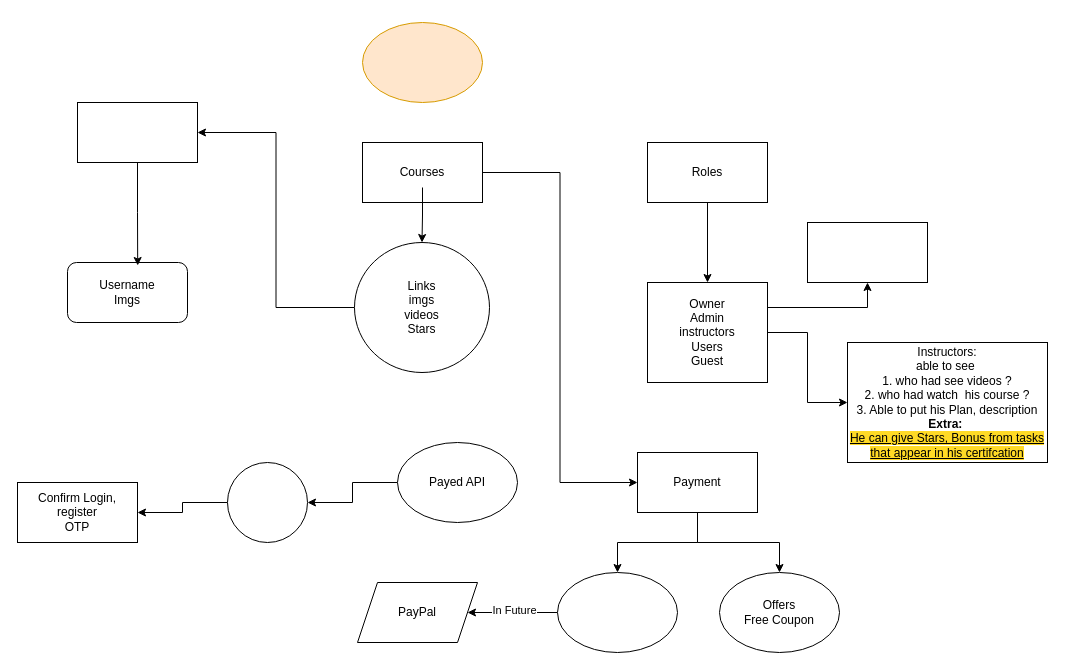
This 1065x670 diagram has some shape labels left out. Each missing label, with the centre of its shape:
"Comments" belongs at (137,132).
"Email" belongs at (267,502).
"Instapay" belongs at (617,612).
"Owner Plan Status of courses, payments, users Full power" belongs at (867,252).
"Platform Courses" belongs at (422,62).
